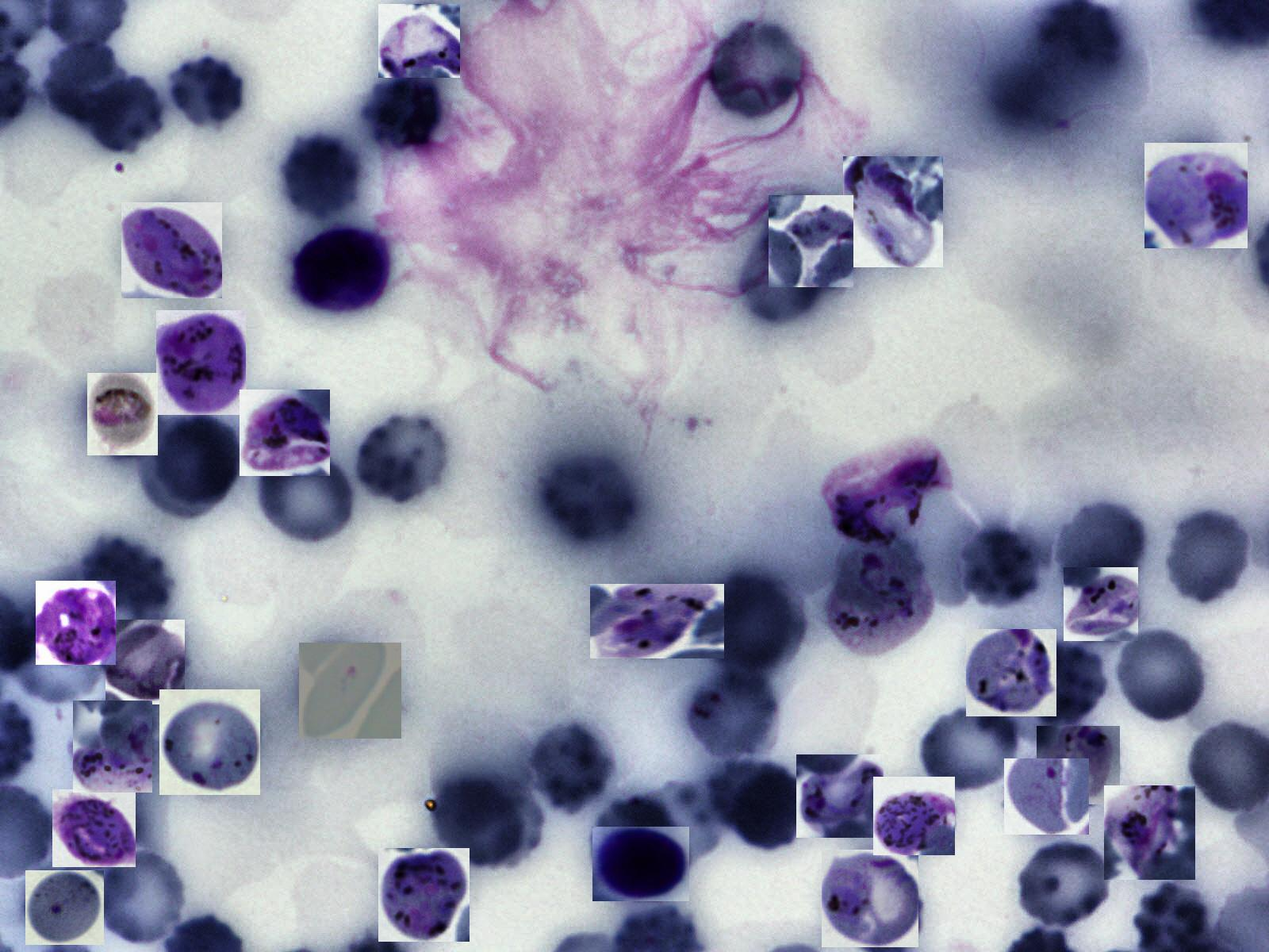Infected: (823, 435, 949, 541), (826, 538, 931, 654), (843, 156, 943, 267), (1144, 143, 1248, 248), (159, 689, 260, 795), (590, 584, 724, 658), (289, 223, 393, 318), (299, 643, 401, 739), (121, 202, 222, 298), (156, 310, 246, 415), (822, 850, 918, 947), (378, 848, 470, 942), (1104, 785, 1195, 880), (966, 629, 1056, 716), (240, 390, 330, 476), (769, 195, 853, 287), (796, 754, 884, 838), (73, 701, 152, 793), (592, 827, 689, 901), (105, 620, 185, 704), (36, 581, 116, 665), (52, 789, 136, 867), (1004, 758, 1089, 835), (1037, 726, 1120, 804), (873, 777, 955, 855), (378, 4, 460, 78), (25, 870, 104, 945), (87, 373, 158, 455), (1064, 567, 1138, 641)
Uninfected: (251, 447, 357, 547), (916, 701, 1024, 795), (428, 773, 531, 871), (1112, 624, 1210, 726), (1010, 838, 1116, 931), (682, 663, 780, 762), (351, 409, 451, 506), (94, 846, 190, 947), (540, 448, 638, 546), (707, 21, 803, 119), (699, 577, 797, 672), (527, 718, 616, 820), (1163, 508, 1253, 606), (1016, 640, 1111, 731), (957, 520, 1047, 612), (738, 229, 822, 324), (276, 132, 364, 221), (1056, 502, 1142, 590), (156, 413, 236, 506), (590, 794, 677, 879), (80, 536, 171, 614), (164, 52, 249, 133), (80, 75, 167, 153), (44, 42, 128, 122), (731, 770, 811, 852), (360, 76, 441, 149)
